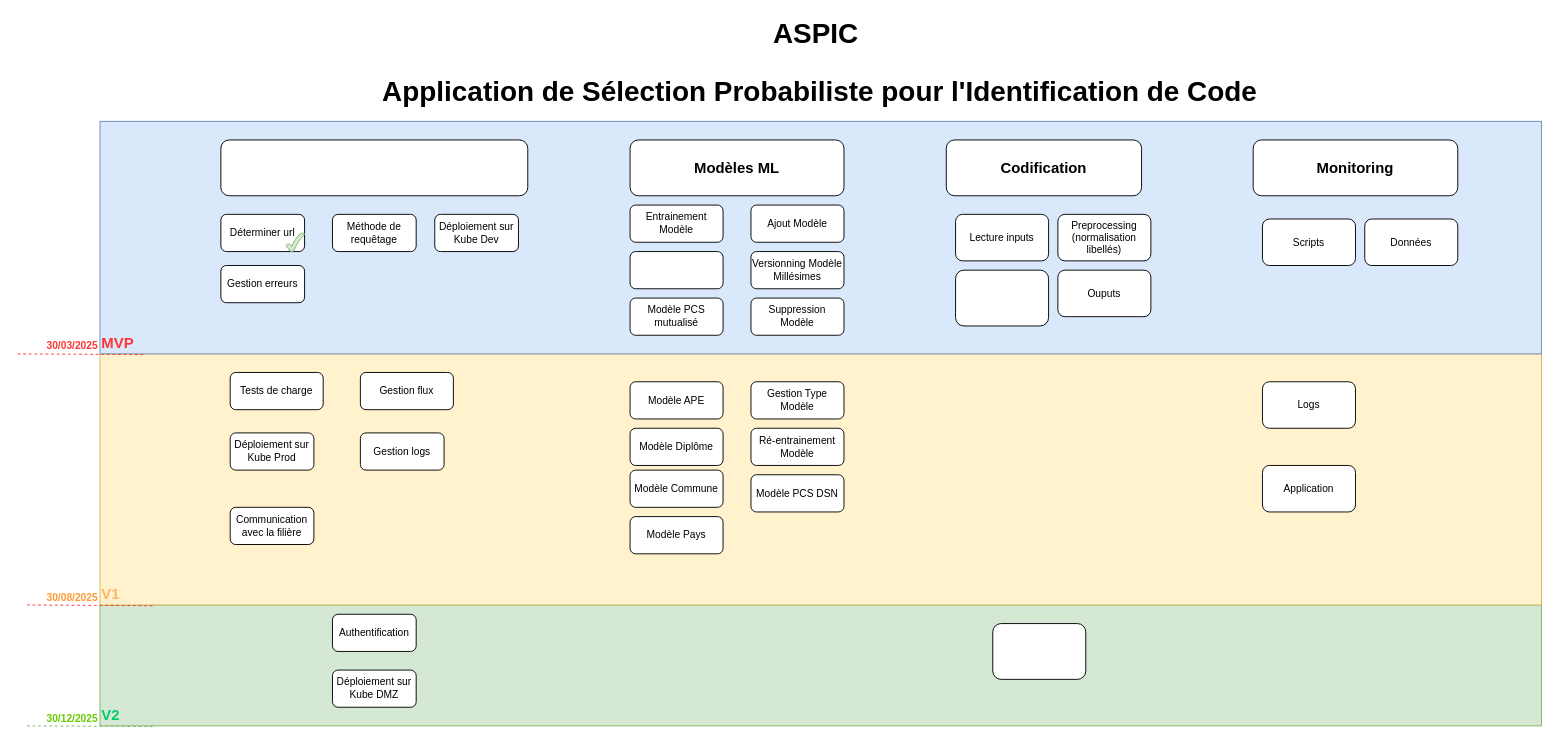
Some shapes in this 1558 by 744 pixel diagram are drawn without their labels. Here are the shapes that lost their labels. From the top down, the centre of each, then its label:
At point 374,167: "API ASPIC".
At point 676,270: "Stockage Modèle".
At point 1002,297: "Type de codage (complet, partiel, non codable)".
At point 1039,651: "Amélioration Preprocessing".
